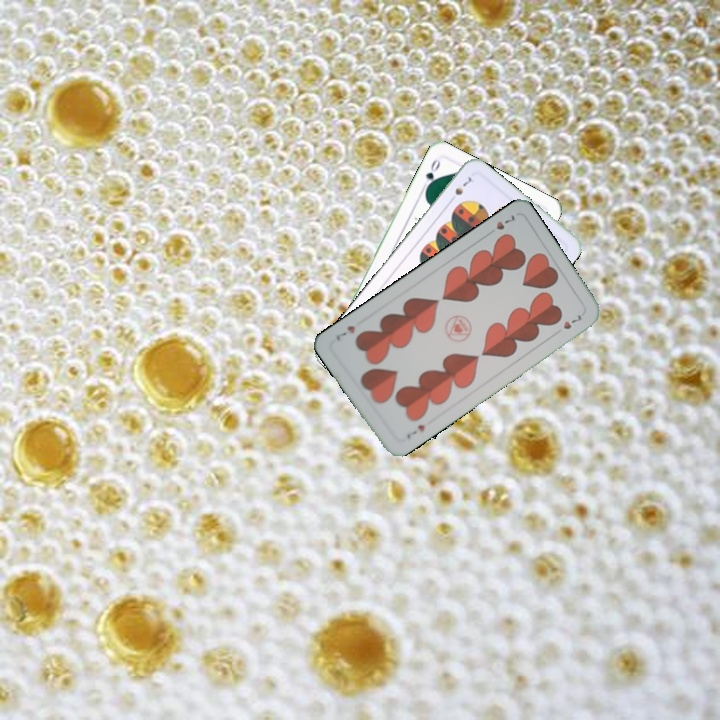GO: (418, 155, 443, 194)
H7: (483, 210, 517, 238), (402, 420, 427, 441)
S7: (445, 173, 474, 205)
